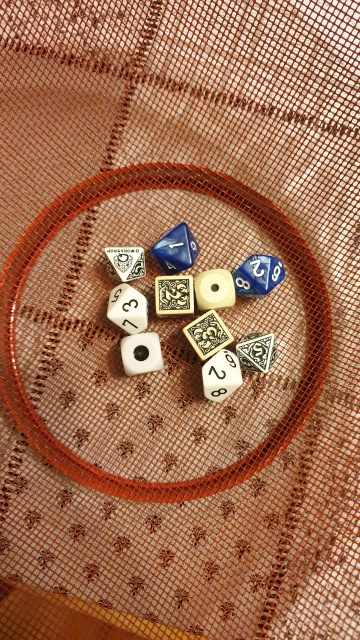d10-1: (150, 220, 206, 273)
d10-2: (193, 346, 245, 407), (228, 252, 287, 300)
d10-3: (103, 282, 154, 337)
d6-1: (117, 333, 165, 377), (193, 269, 235, 309)
d6p-2: (153, 274, 195, 315)
d6p-3: (183, 309, 233, 358)
d8p-5: (233, 327, 281, 377)
d8p-8: (102, 243, 148, 285)
